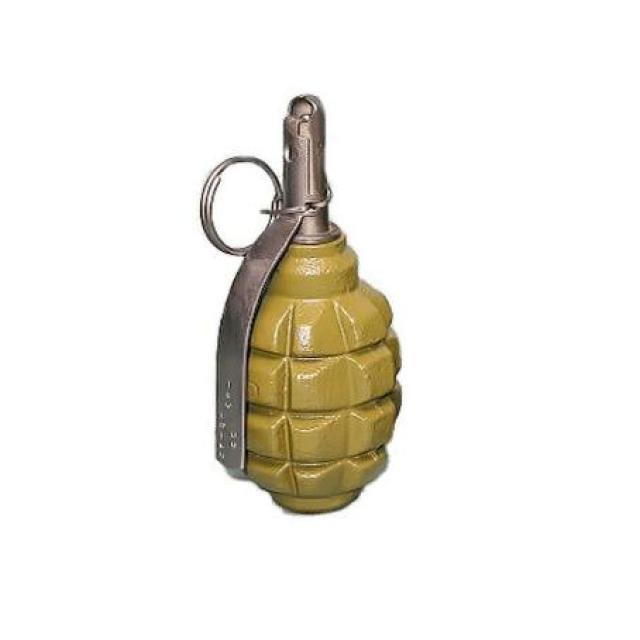grenade: (201, 96, 406, 516)
